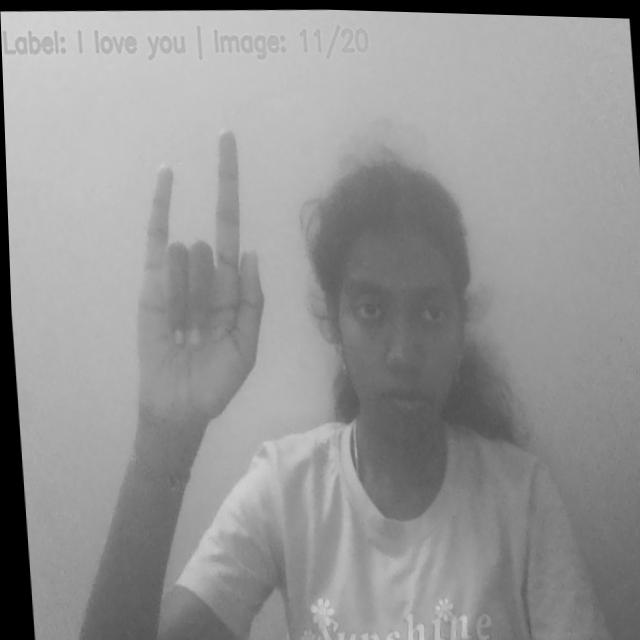I love you: (114, 121, 274, 413)
